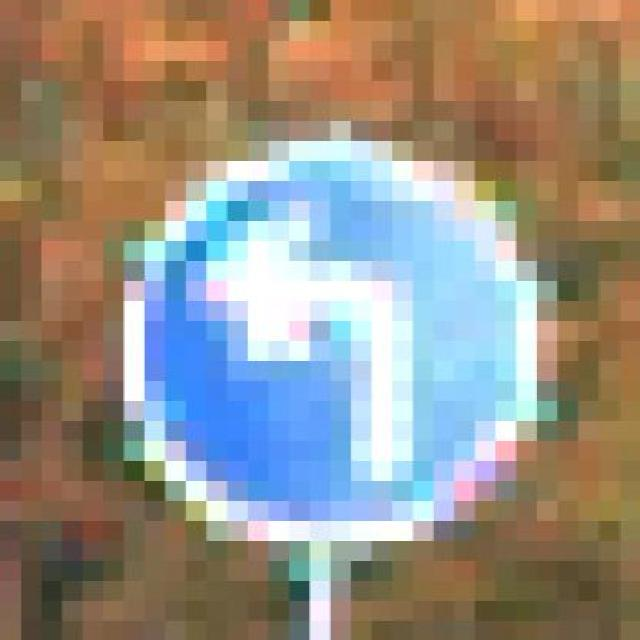Turn left ahead: (103, 120, 557, 560)
